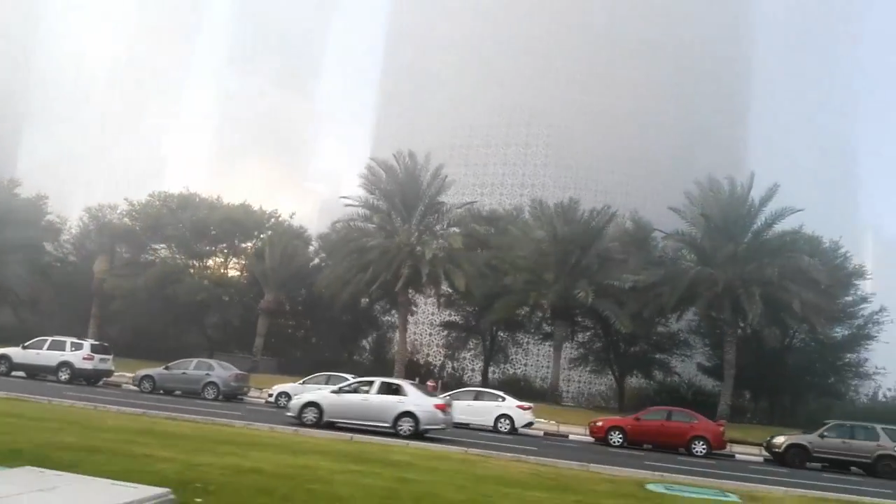car: (283, 373, 453, 439), (763, 417, 896, 481), (588, 403, 727, 460), (1, 332, 115, 387), (422, 384, 535, 436), (130, 356, 252, 402), (266, 370, 385, 417)
